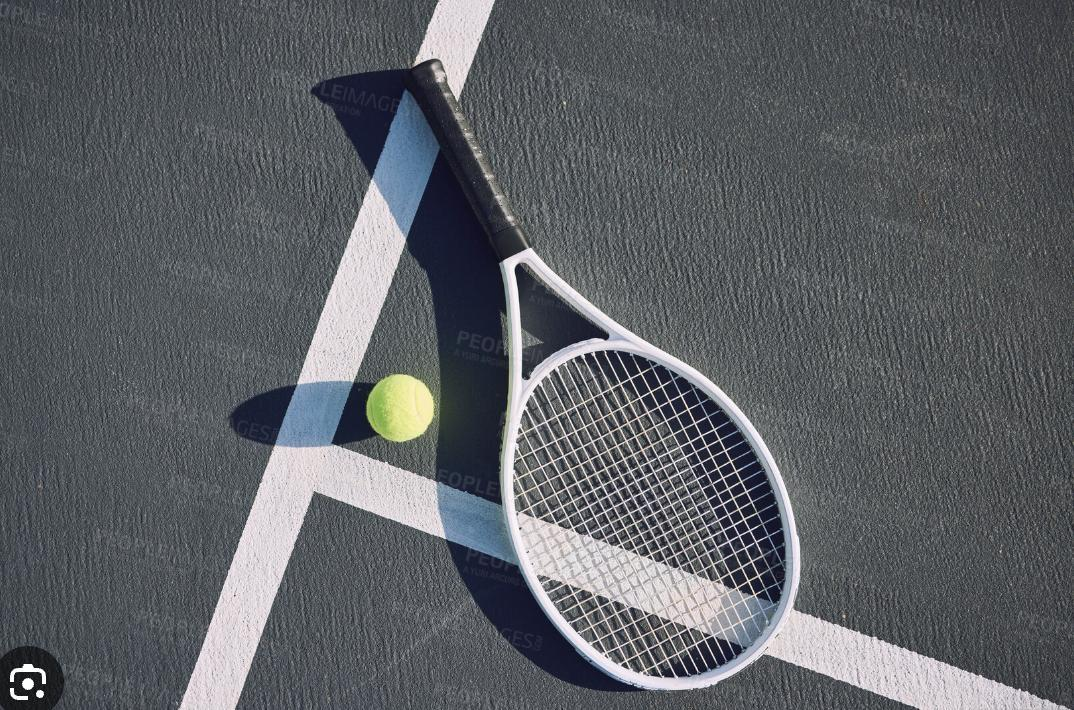Tennis-Racket: (405, 61, 799, 690)
